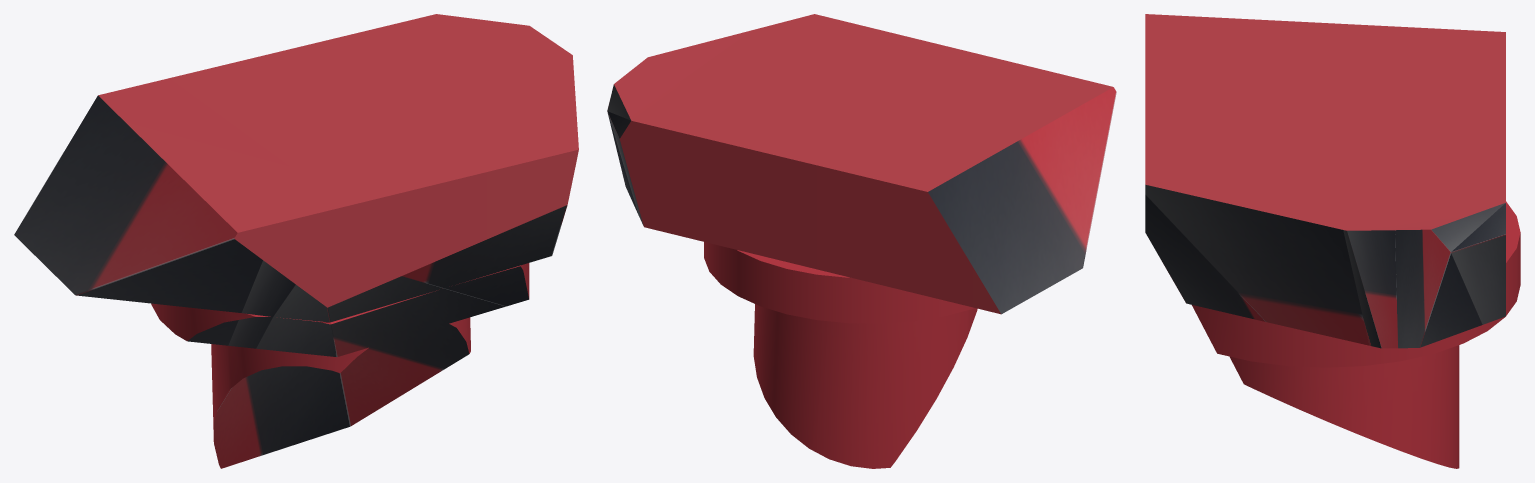
File: torii_broken_012.obj
3 renders of one model, left to right at view 1: azimuth 30°, elevation 25°; view 2: azimuth 150°, elevation 25°; view 3: azimuth 270°, elevation 25°, orthographic. The views are drawn at different scales.
Visible parts, largest first — view 1: 鳥居.001_cell.012_鳥居.001_cell.038; view 2: 鳥居.001_cell.012_鳥居.001_cell.038; view 3: 鳥居.001_cell.012_鳥居.001_cell.038.
Boxes of the visible parts, x1,y1,x2,y2 form: 鳥居.001_cell.012_鳥居.001_cell.038: (14, 14, 578, 468); 鳥居.001_cell.012_鳥居.001_cell.038: (607, 14, 1116, 468); 鳥居.001_cell.012_鳥居.001_cell.038: (1145, 14, 1520, 468).
Bounding box in the file's own units: 0.7033 × 0.4927 × 0.4483.
Materials: 1 (1 with a texture image).
